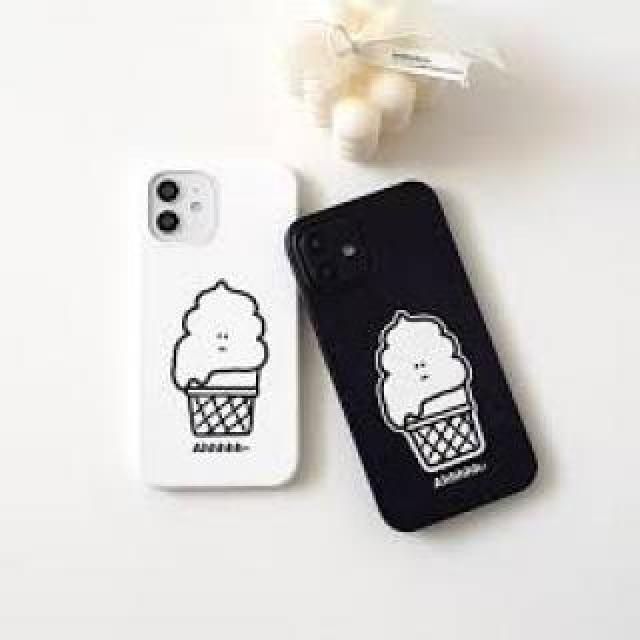smart phone: (282, 198, 560, 532), (137, 105, 283, 530)
